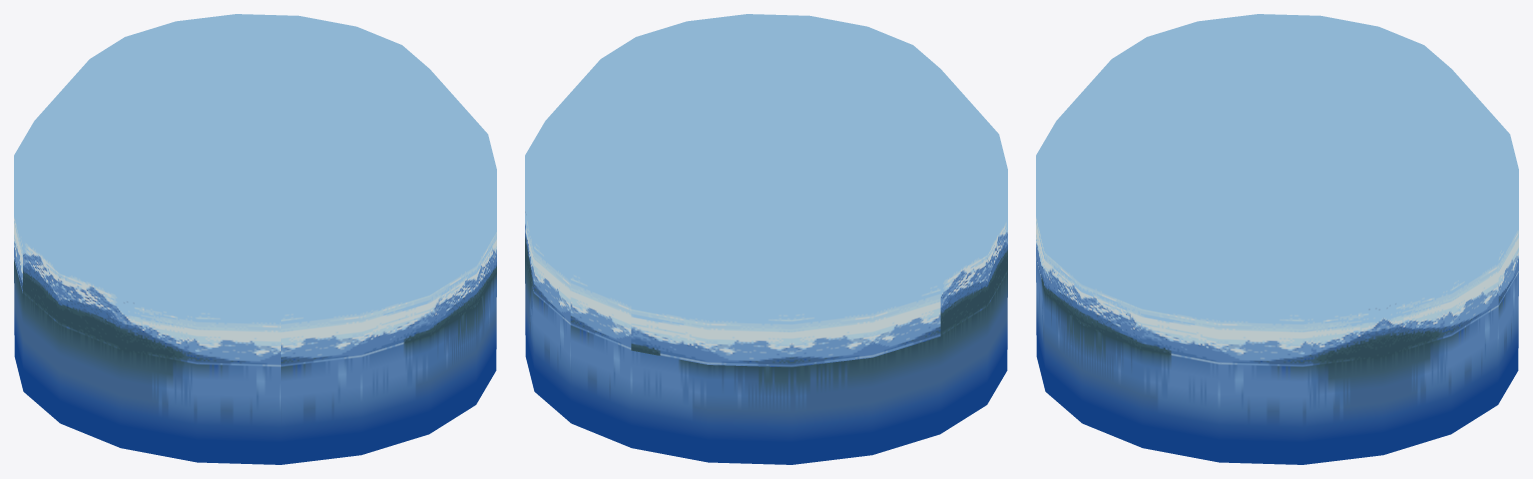
3 views of the same model, side by side, from view 1: azimuth 30°, elevation 25°; view 2: azimuth 150°, elevation 25°; view 3: azimuth 270°, elevation 25° (orthographic).
Size of the model in its own units: 110213 by 111026 by 110562.
23 materials, 22 textured.
